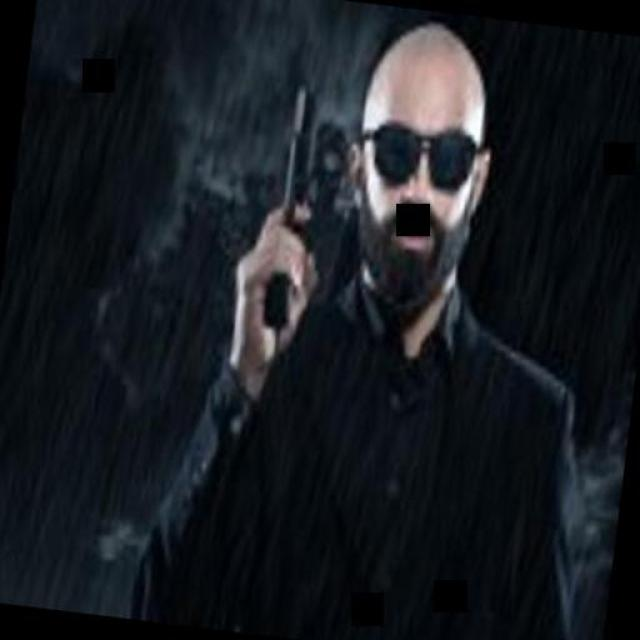gun: (260, 66, 319, 334)
